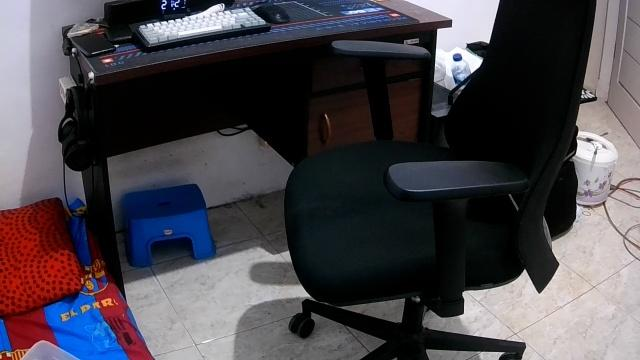Kursi: (282, 0, 598, 358)
Meja: (59, 0, 452, 114)
